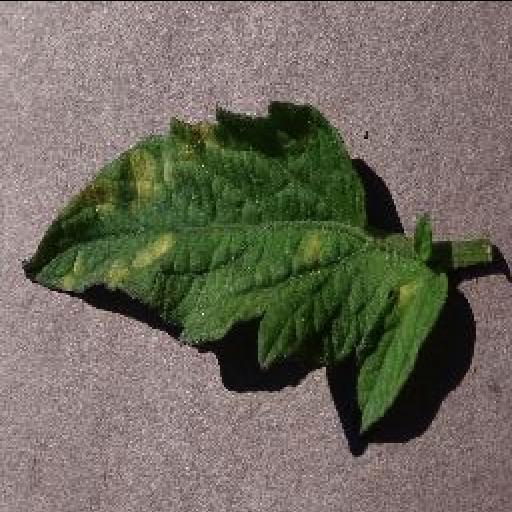disease_tomato: (20, 101, 450, 437)
